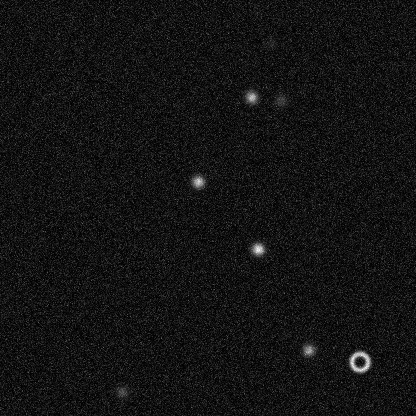Ring: (347, 349, 371, 373)
Spot: (249, 241, 265, 257), (300, 341, 316, 357), (189, 173, 205, 189), (263, 34, 279, 50), (243, 89, 259, 105), (272, 92, 288, 108), (113, 383, 129, 399)
